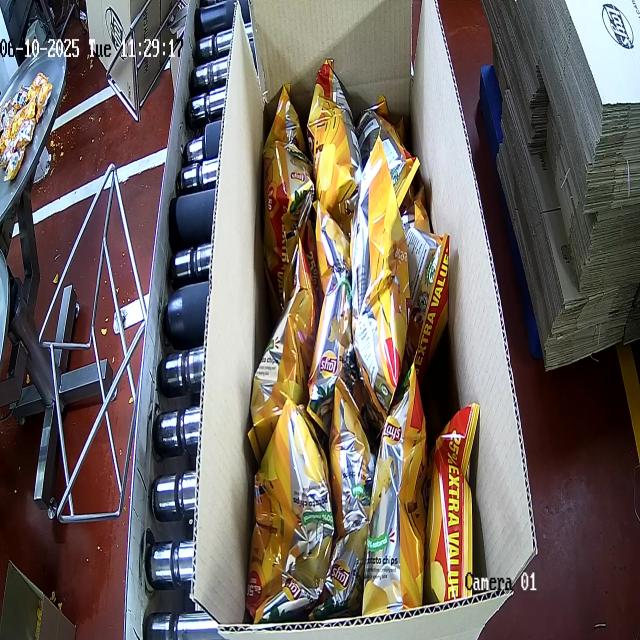FRENCH_CHEESE: (259, 90, 481, 620)
